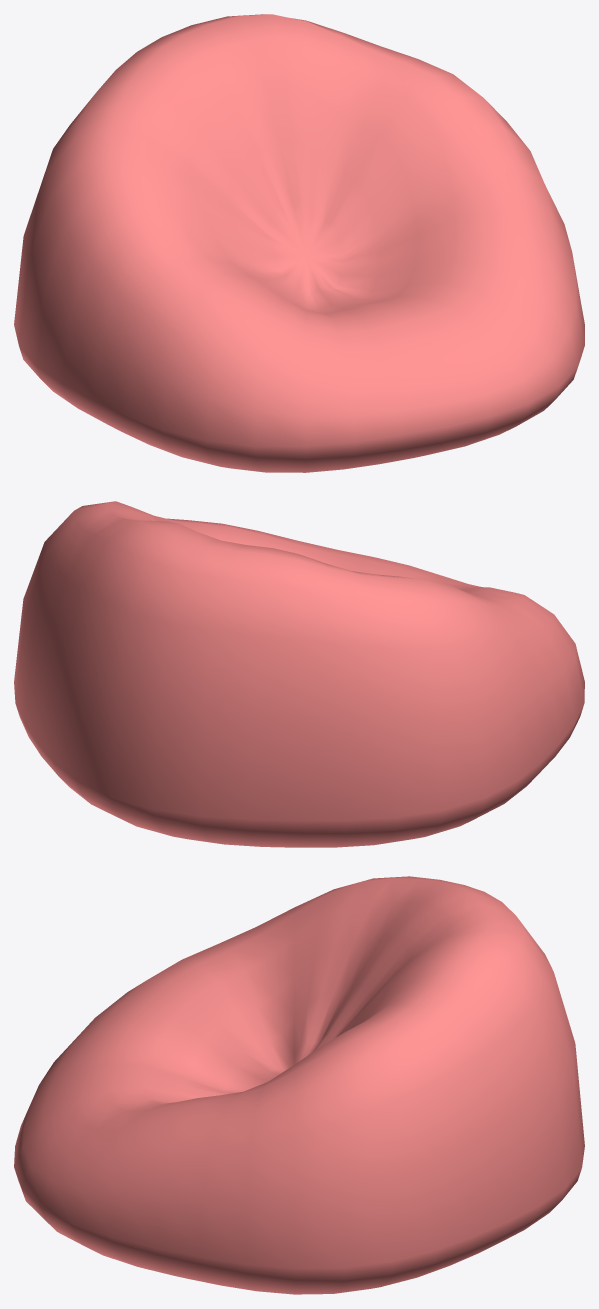
Rendered from beanbag.glb.
3 views of the same model, one above another, from view 1: azimuth 30°, elevation 25°; view 2: azimuth 150°, elevation 25°; view 3: azimuth 270°, elevation 25° (orthographic).
Parts seen in each view (by area): view 1: fabric_beanbag; view 2: fabric_beanbag; view 3: fabric_beanbag.
Part boxes in pixels (bbox=[...]): fabric_beanbag: bbox=[14, 14, 584, 472]; fabric_beanbag: bbox=[14, 501, 584, 847]; fabric_beanbag: bbox=[14, 876, 584, 1294].
Bounding box in the file's own units: 0.9023 × 0.5715 × 0.9018.
